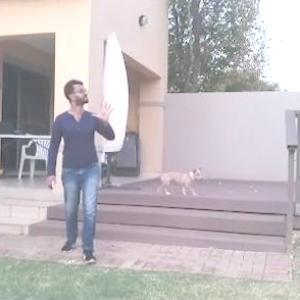follow_hand: (89, 95, 117, 124)
